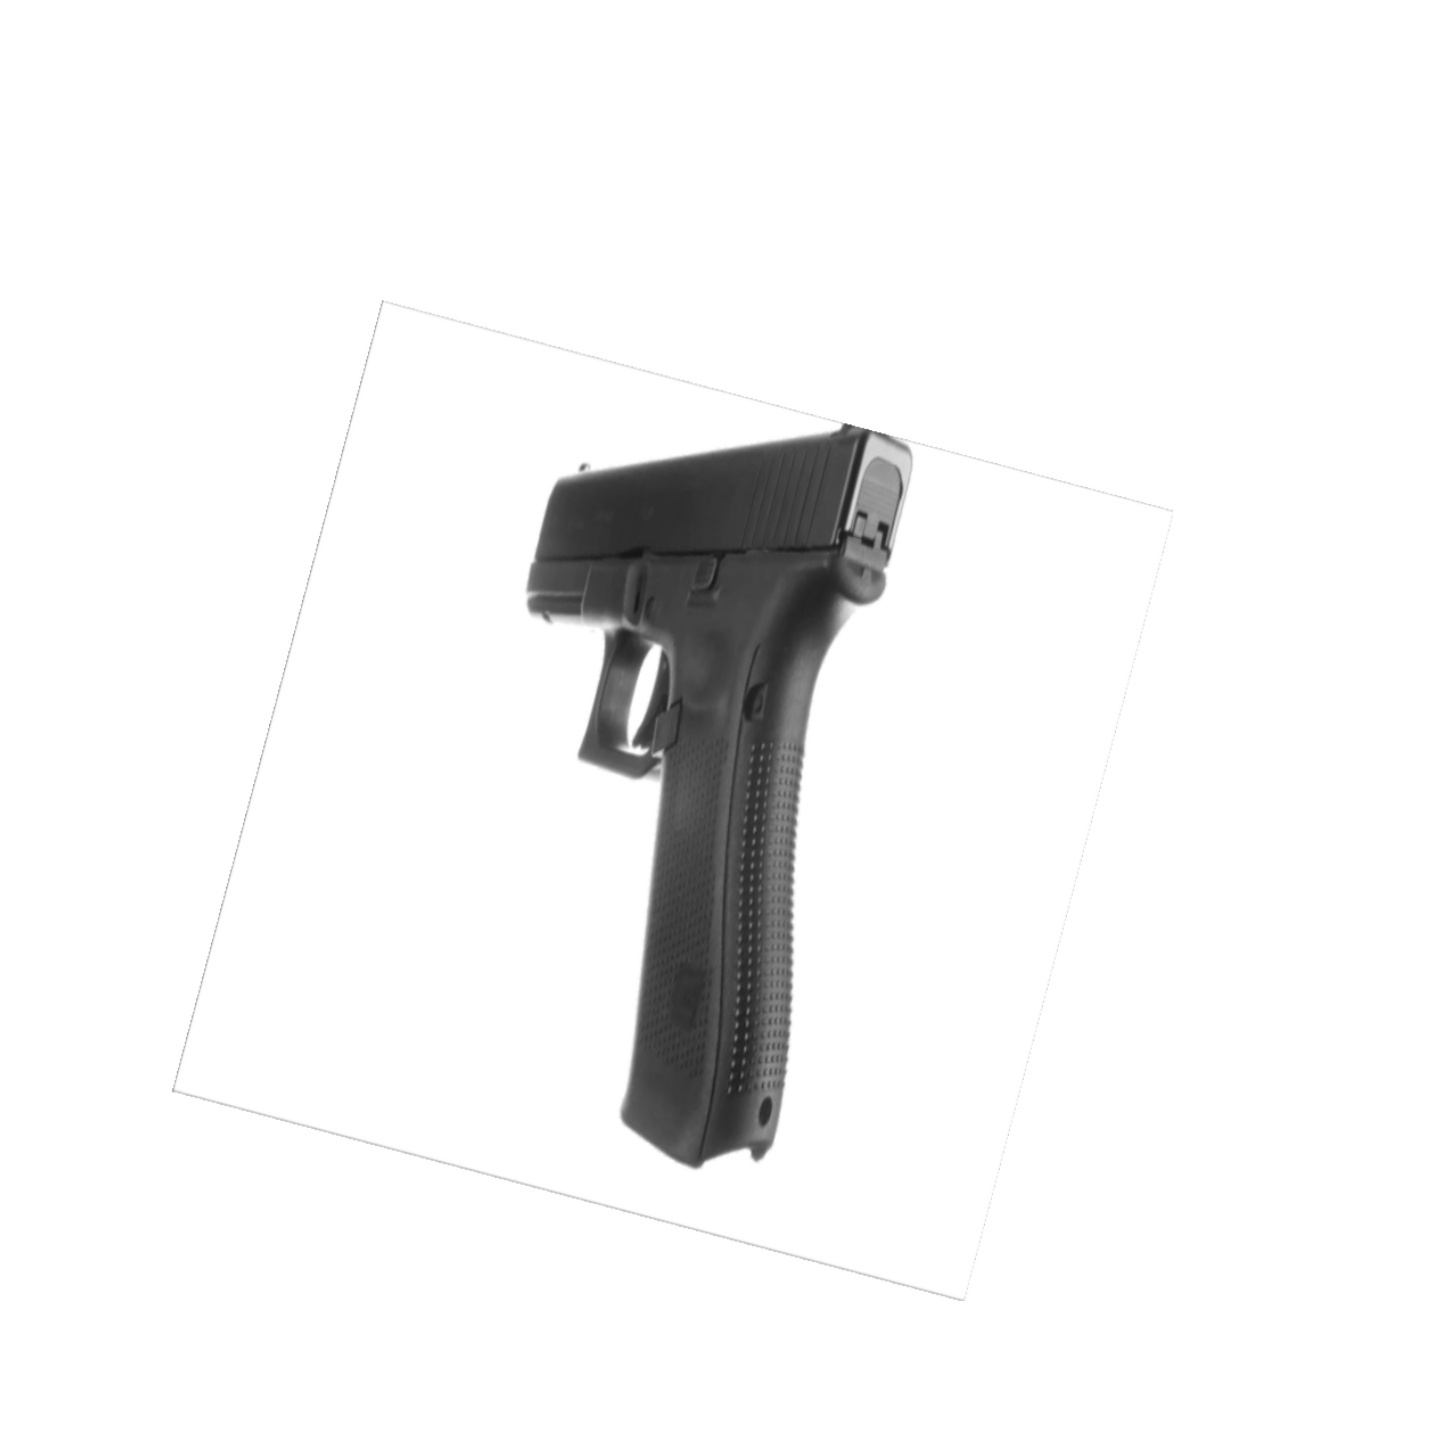gun: (521, 424, 915, 1169)
